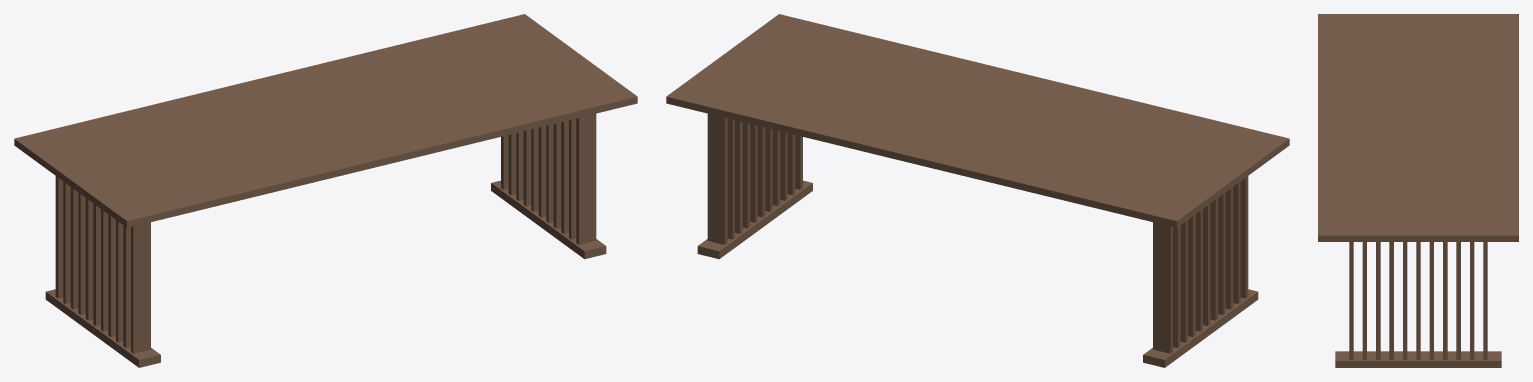
File: 536_ダイニングテーブル6人掛け.glb
3 views of the same model, side by side, from view 1: azimuth 30°, elevation 25°; view 2: azimuth 150°, elevation 25°; view 3: azimuth 270°, elevation 25° (orthographic). The views are drawn at different scales.
Parts seen in each view (by area): view 1: Body; view 2: Body; view 3: Body.
Boxes of the visible parts, x1,y1,x2,y2 form: Body: [14, 14, 637, 367]; Body: [666, 14, 1289, 367]; Body: [1318, 14, 1518, 367].
Size of the model in its own units: 2.35 by 0.7 by 0.9.
